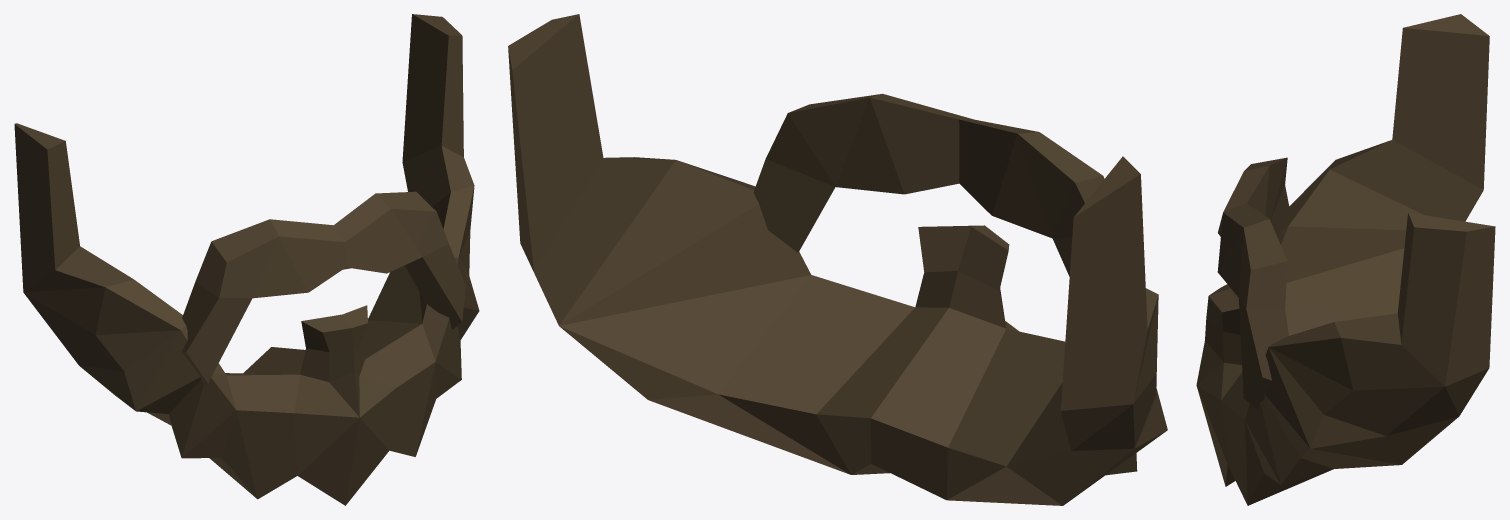
The model's file is SM_Chr_Attach_Beard_02.glb.
The picture shows the model from 3 angles, left to right: view 1: azimuth 30°, elevation 25°; view 2: azimuth 150°, elevation 25°; view 3: azimuth 270°, elevation 25°; orthographic projection. The views are drawn at different scales.
Visible parts, largest first — view 1: SM_Chr_Attach_Beard_02; view 2: SM_Chr_Attach_Beard_02; view 3: SM_Chr_Attach_Beard_02.
Boxes of the visible parts, box(x1,y1,x2,y2) form: SM_Chr_Attach_Beard_02: box(14, 14, 479, 505); SM_Chr_Attach_Beard_02: box(508, 14, 1167, 505); SM_Chr_Attach_Beard_02: box(1196, 14, 1495, 505).
Size of the model in its own units: 0.2318 by 0.1829 by 0.1336.
1 material, 1 textured.
